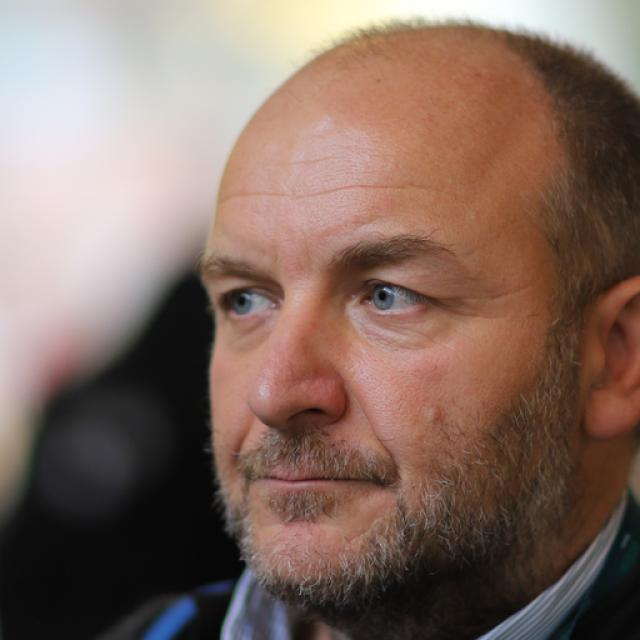Acne: (413, 405, 453, 434)
Wrinkle: (215, 175, 450, 207)
